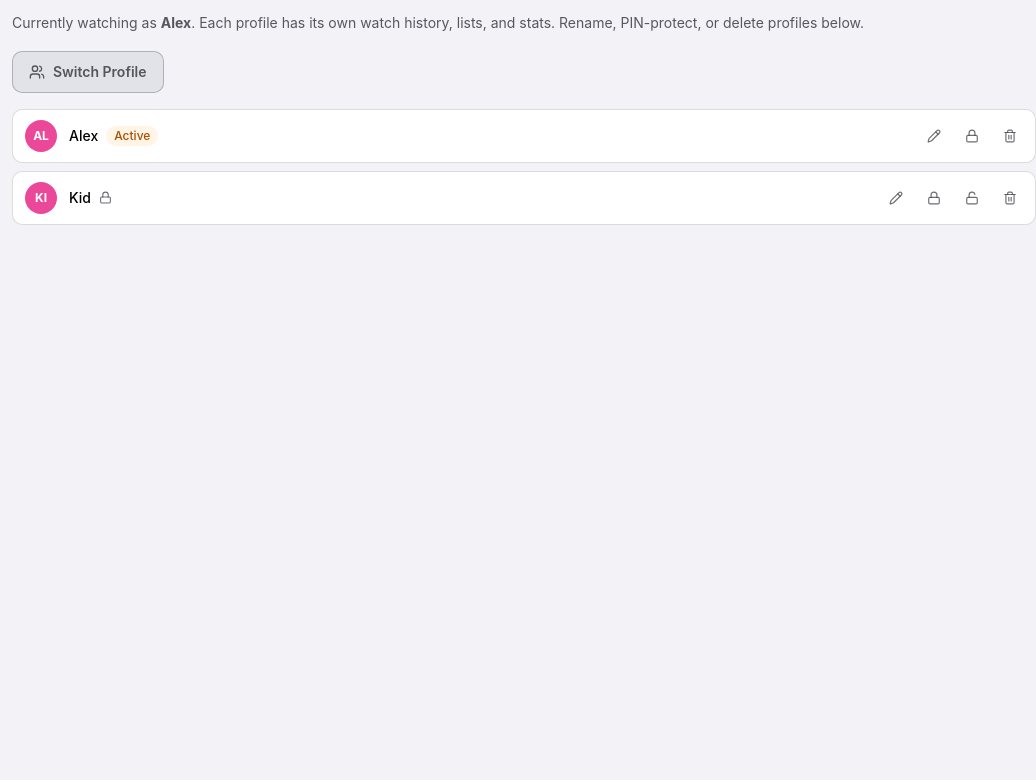
Test: ProfileSettings PINs › sets a first PIN without asking for one that doesn't exist
The image size is (1036, 780).
Click the button named "Set PIN for Alex" at [972, 136], box [959, 123, 985, 149]
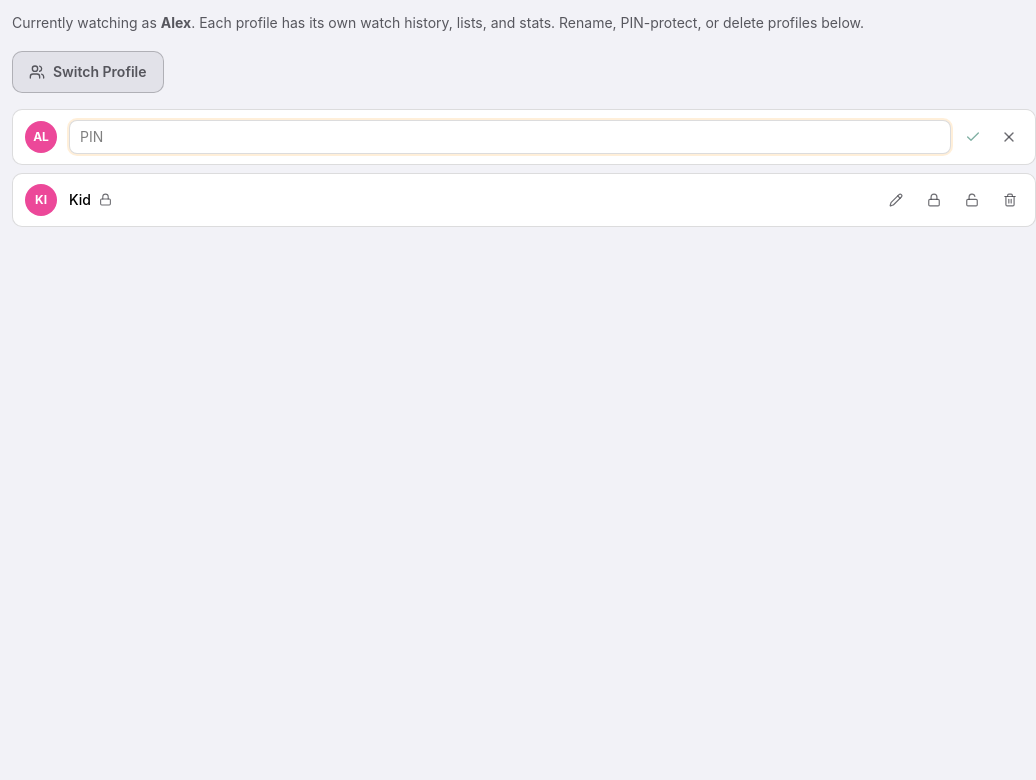
Type "1234" into the password field named "PIN for Alex" at [510, 137], box [69, 120, 951, 154]
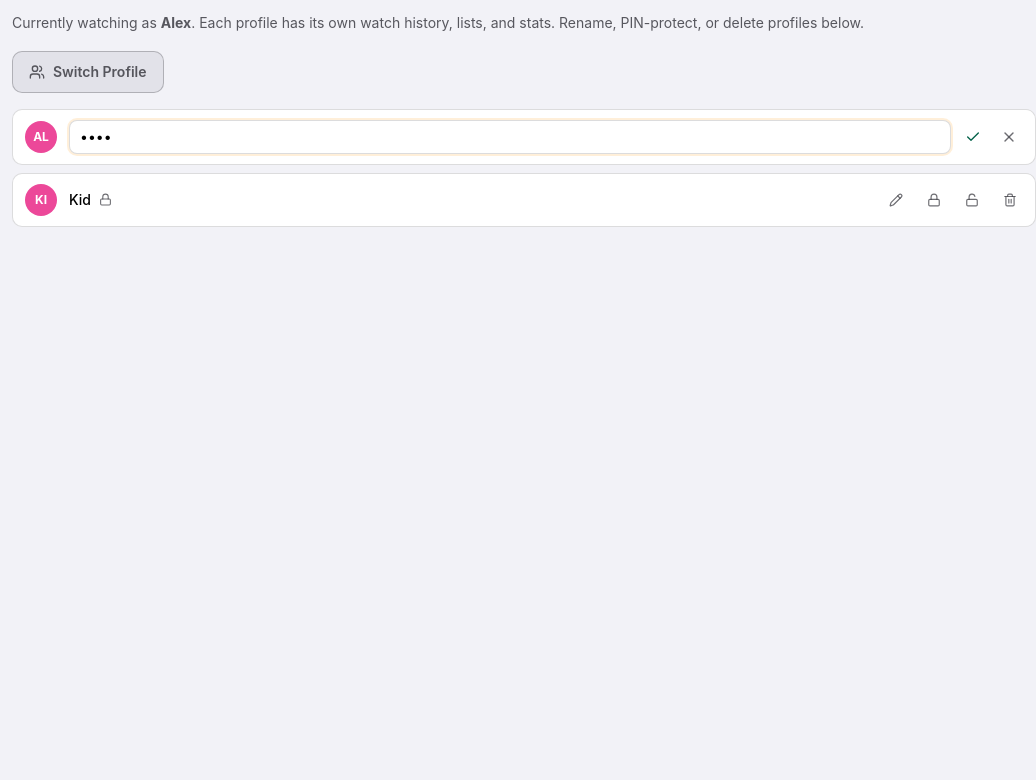
Click the button named "Save PIN" at [973, 137], box [959, 123, 987, 151]
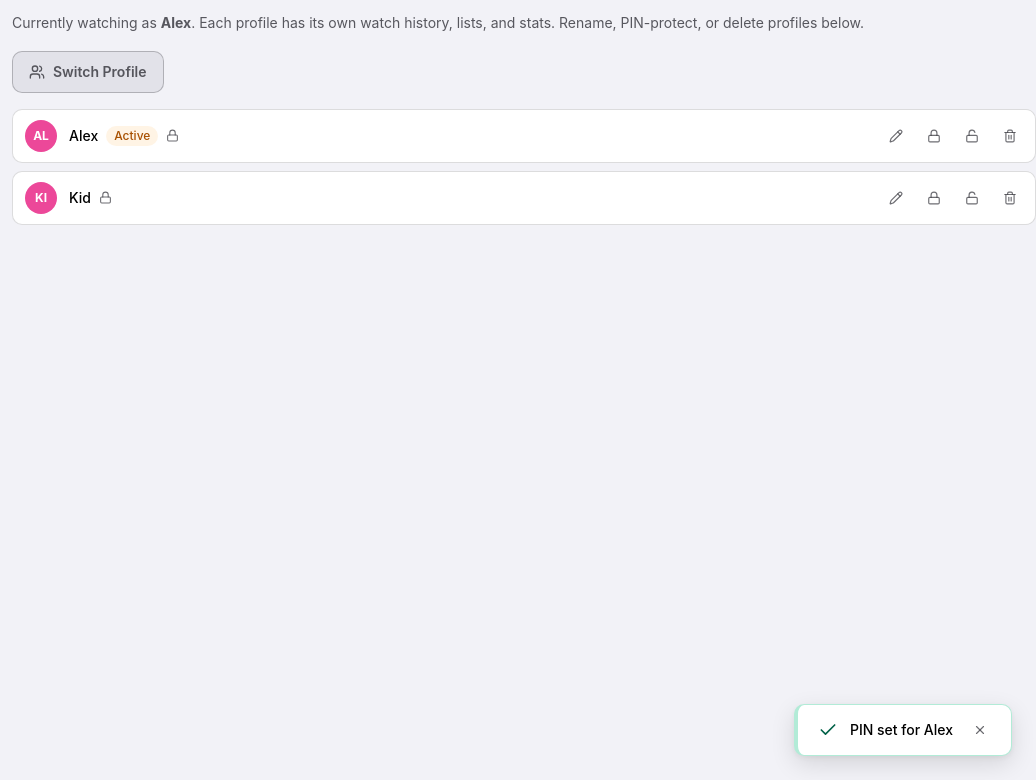
Check: the text "PIN set for Alex" is shown, box [850, 720, 953, 740]
